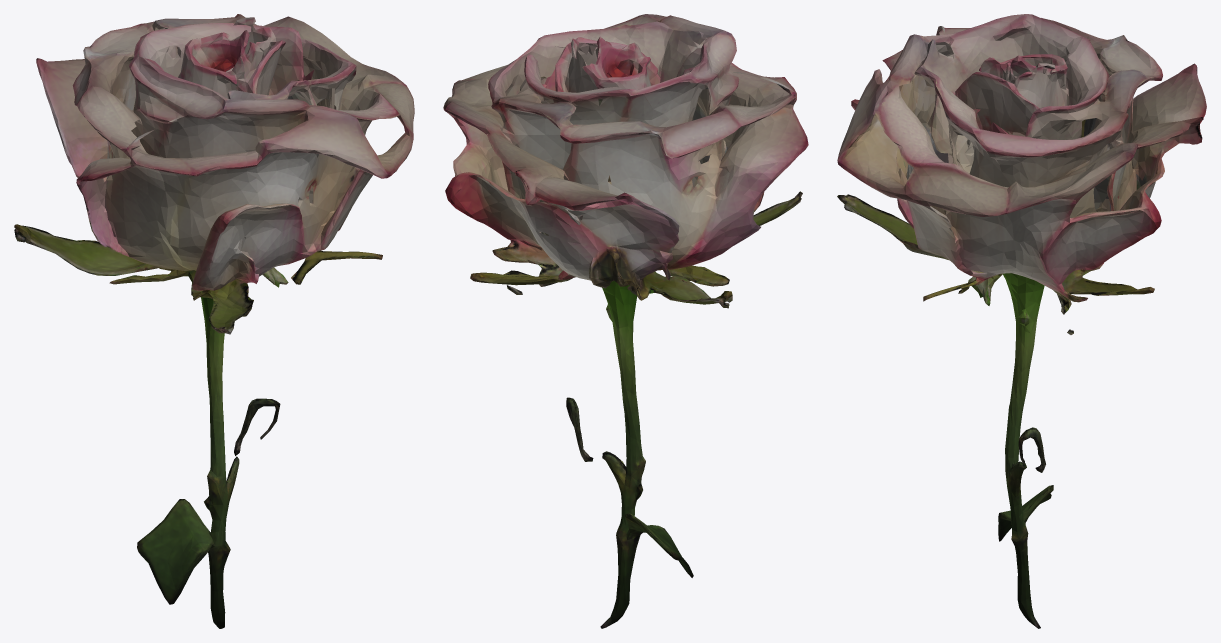
3 views of the same model, side by side, from view 1: azimuth 30°, elevation 25°; view 2: azimuth 150°, elevation 25°; view 3: azimuth 270°, elevation 25° (orthographic). The views are drawn at different scales.
Parts seen in each view (by area): view 1: world; view 2: world; view 3: world.
Part boxes in pixels (x1,y1,x2,y2): world: [14, 14, 414, 628]; world: [443, 14, 808, 628]; world: [837, 14, 1206, 628].
Size of the model in its own units: 0.5733 by 0.9592 by 0.5547.
Materials: 1 (1 with a texture image).
